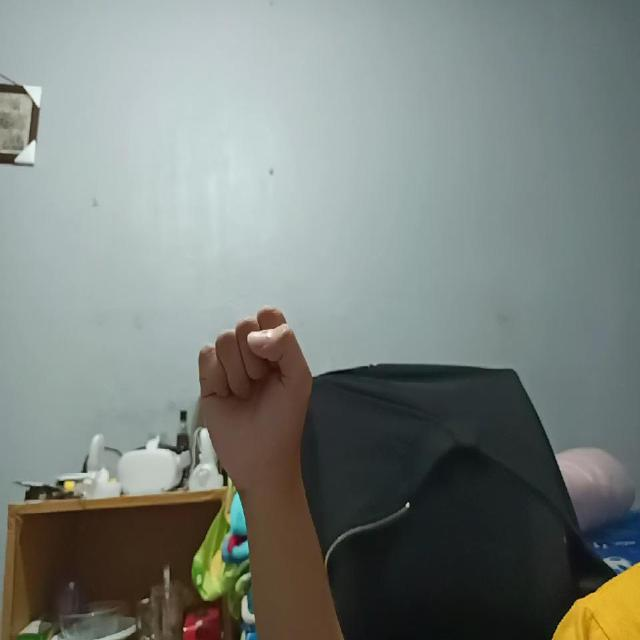fist: (194, 296, 308, 506)
